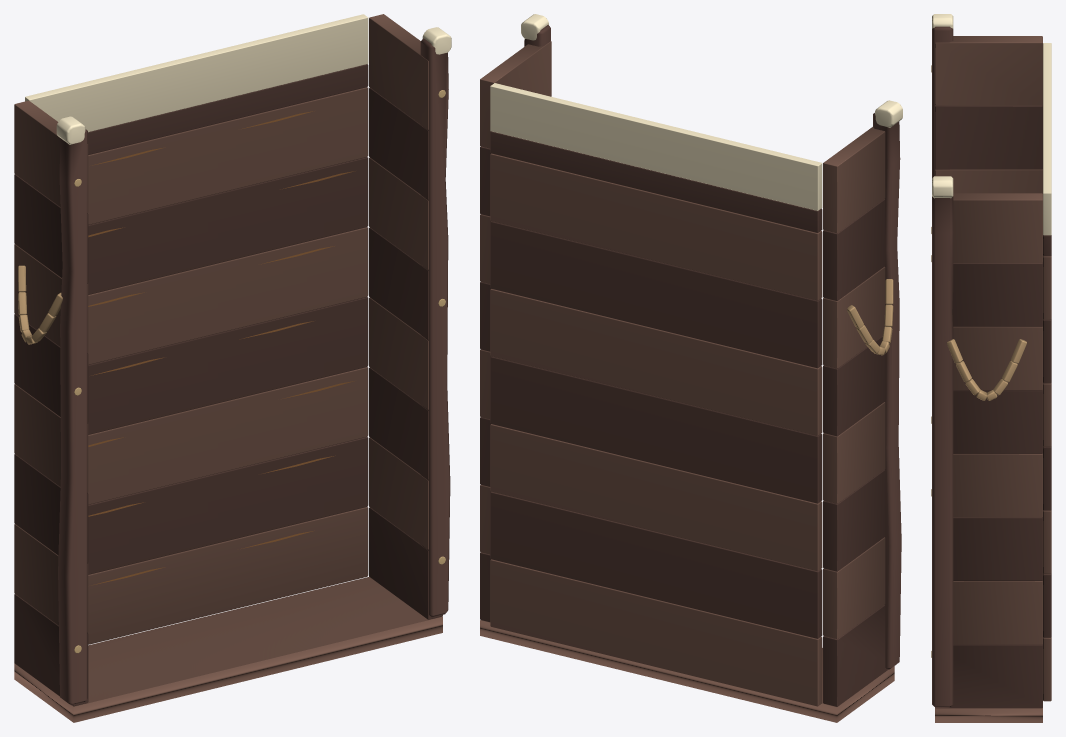
Rendered from container_market.glb.
The picture shows the model from 3 angles, left to right: view 1: azimuth 30°, elevation 25°; view 2: azimuth 150°, elevation 25°; view 3: azimuth 270°, elevation 25°; orthographic projection. The views are drawn at different scales.
Parts seen in each view (by area): view 1: Back liner, Flat inner wall.008, Flat inner wall, Continuous floor, Outer corner moulding, Outer corner moulding.001; view 2: Back liner, Flat inner wall, Outer corner moulding, Flat inner wall.008, Continuous floor, Outer corner moulding.001; view 3: Flat inner wall.008, Flat inner wall, Outer corner moulding.001, Back liner, Continuous floor, Outer corner moulding.
Boxes of the visible parts, x1=… form: Back liner: x1=25, y1=14, x2=368, y2=644; Flat inner wall.008: x1=369, y1=14, x2=442, y2=619; Flat inner wall: x1=14, y1=100, x2=88, y2=706; Continuous floor: x1=14, y1=576, x2=442, y2=722; Outer corner moulding: x1=18, y1=116, x2=87, y2=705; Outer corner moulding.001: x1=420, y1=27, x2=451, y2=617; Back liner: x1=490, y1=83, x2=822, y2=706; Flat inner wall: x1=823, y1=127, x2=887, y2=706; Outer corner moulding: x1=847, y1=100, x2=902, y2=669; Flat inner wall.008: x1=480, y1=41, x2=551, y2=622; Continuous floor: x1=480, y1=620, x2=894, y2=722; Outer corner moulding.001: x1=521, y1=14, x2=550, y2=46; Flat inner wall.008: x1=935, y1=193, x2=1042, y2=708; Flat inner wall: x1=935, y1=36, x2=1042, y2=193; Outer corner moulding.001: x1=931, y1=176, x2=1027, y2=707; Back liner: x1=1043, y1=43, x2=1051, y2=701; Continuous floor: x1=935, y1=708, x2=1042, y2=722; Outer corner moulding: x1=931, y1=14, x2=953, y2=496.
Size of the model in its own units: 7.94 by 11.12 by 2.23.
